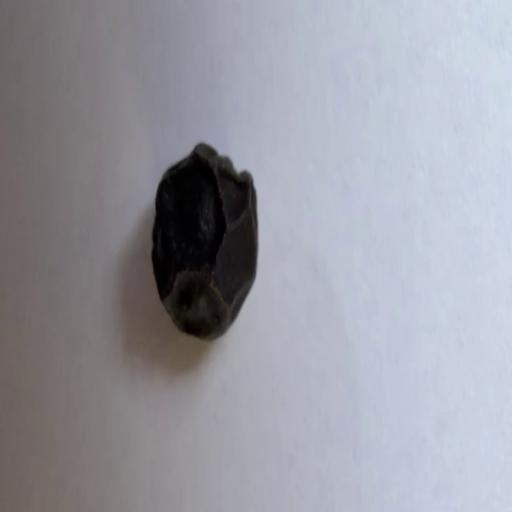Black_pepper: (138, 134, 288, 356)
